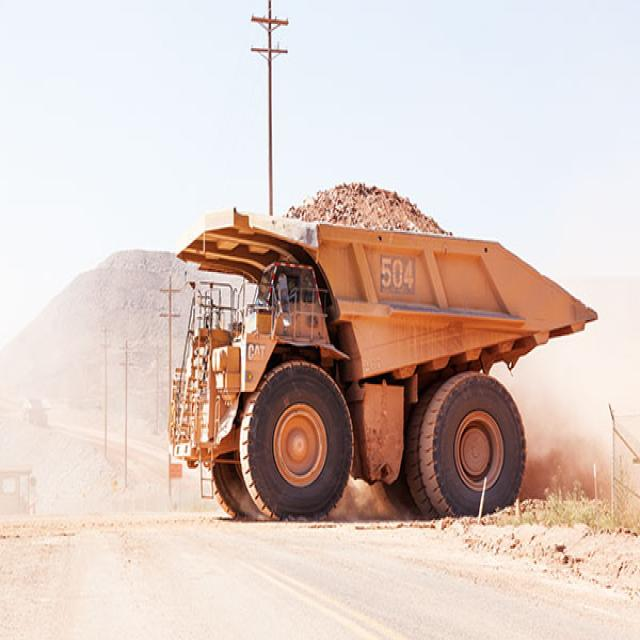dump_truck: (166, 171, 598, 531)
